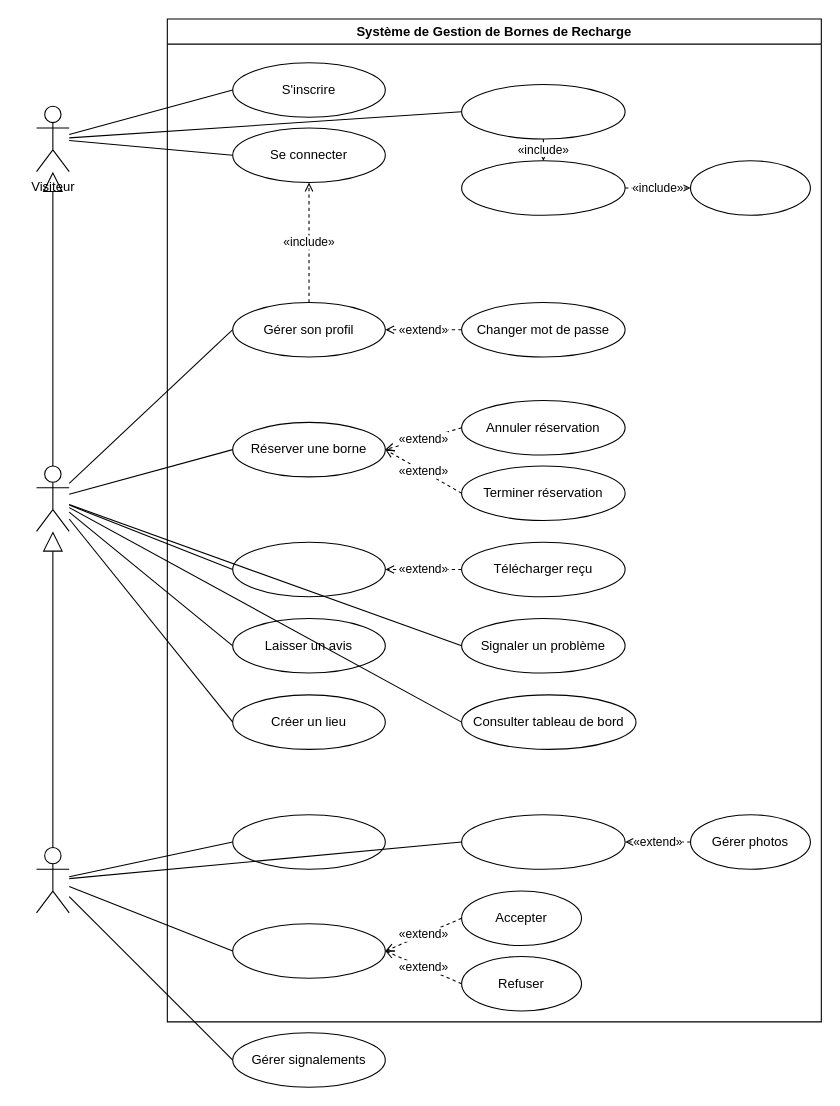
The diagram is 840 pixels wide and 1106 high, and some of its shapes have lost their labels. Each missing label, with the centre of its shape:
Ajouter une borne: (308,841)
Consulter avis: (749,187)
Consulter détails borne: (543,187)
Consulter historique: (308,569)
Gérer les demandes: (308,950)
Gérer ses bornes: (543,841)
Propriétaire: (52,879)
Rechercher des bornes: (543,111)
Utilisateur: (52,498)
